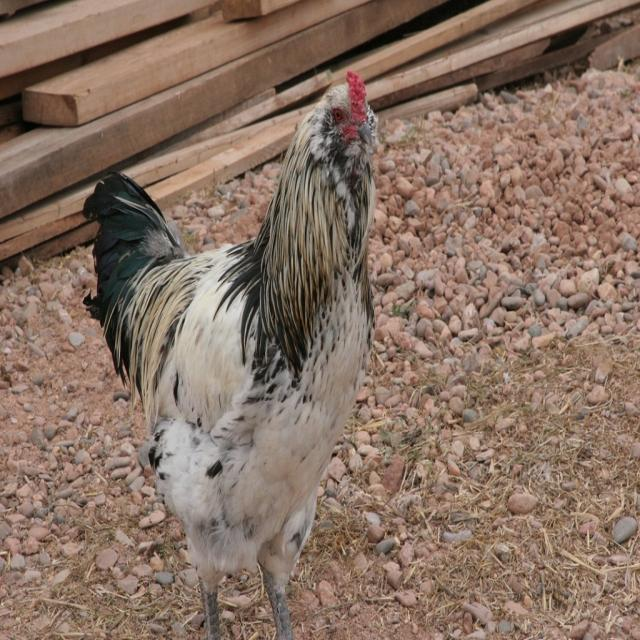Chicken: (82, 71, 378, 640)
